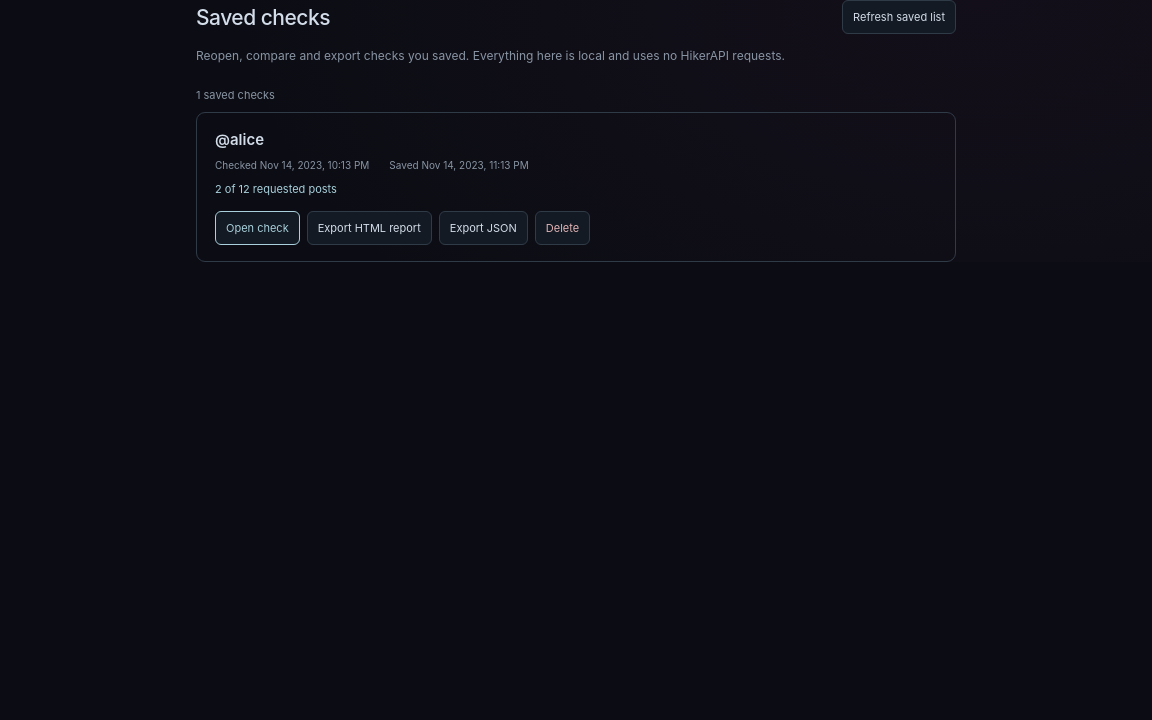
Test: saved checks view › keeps a failed deletion visible and displays only a translated failure
Click the button "Delete" at (562, 228), box [535, 211, 590, 245]
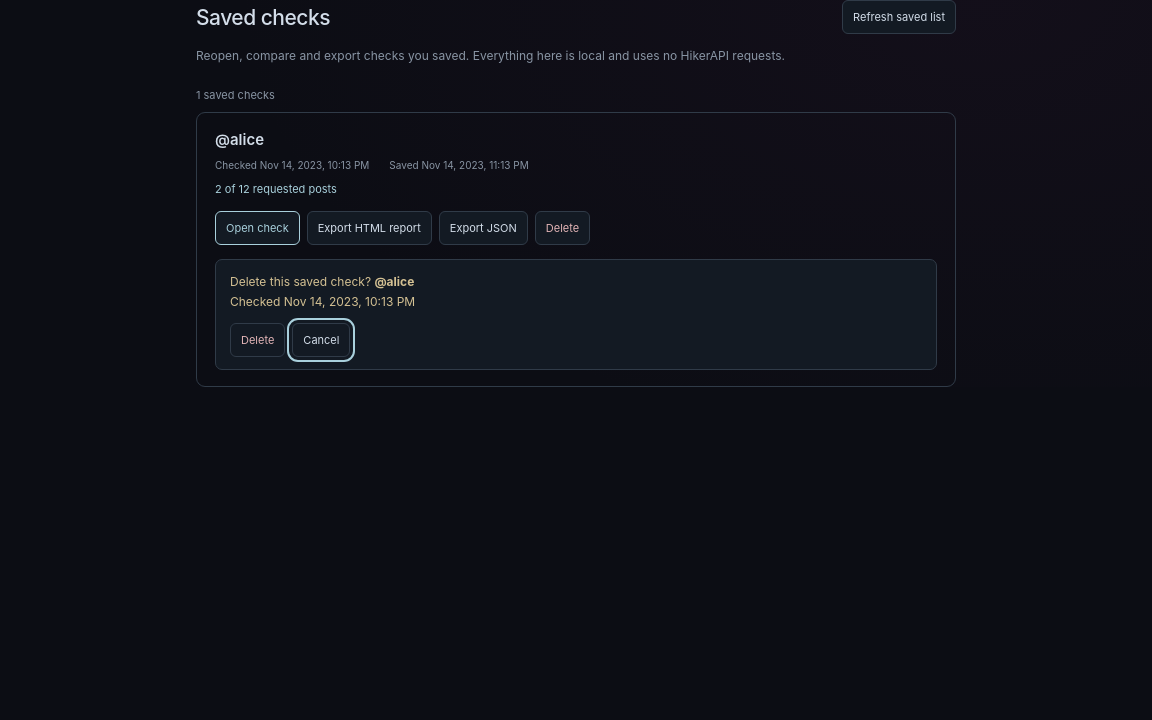
Click the button "Delete" below "Delete this saved check?" at (258, 340), box [230, 323, 285, 357]
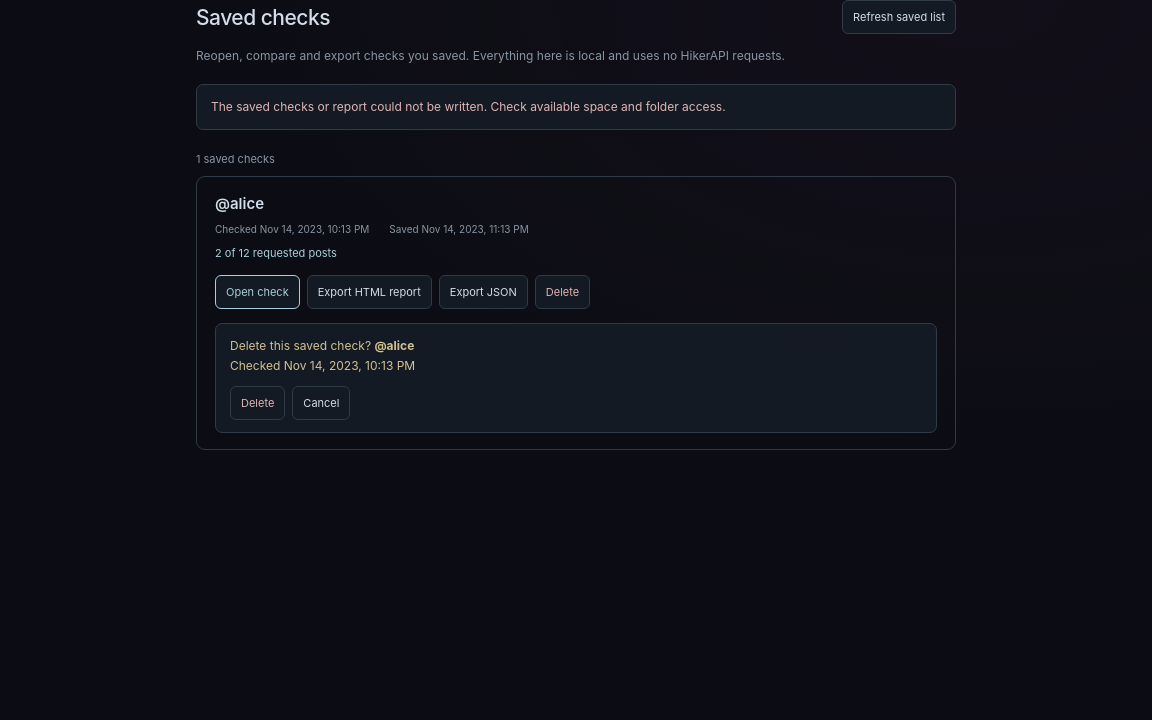
Check: the message shows "The saved checks or report could not be written. Check available space and folder access.", box [211, 99, 726, 114]
